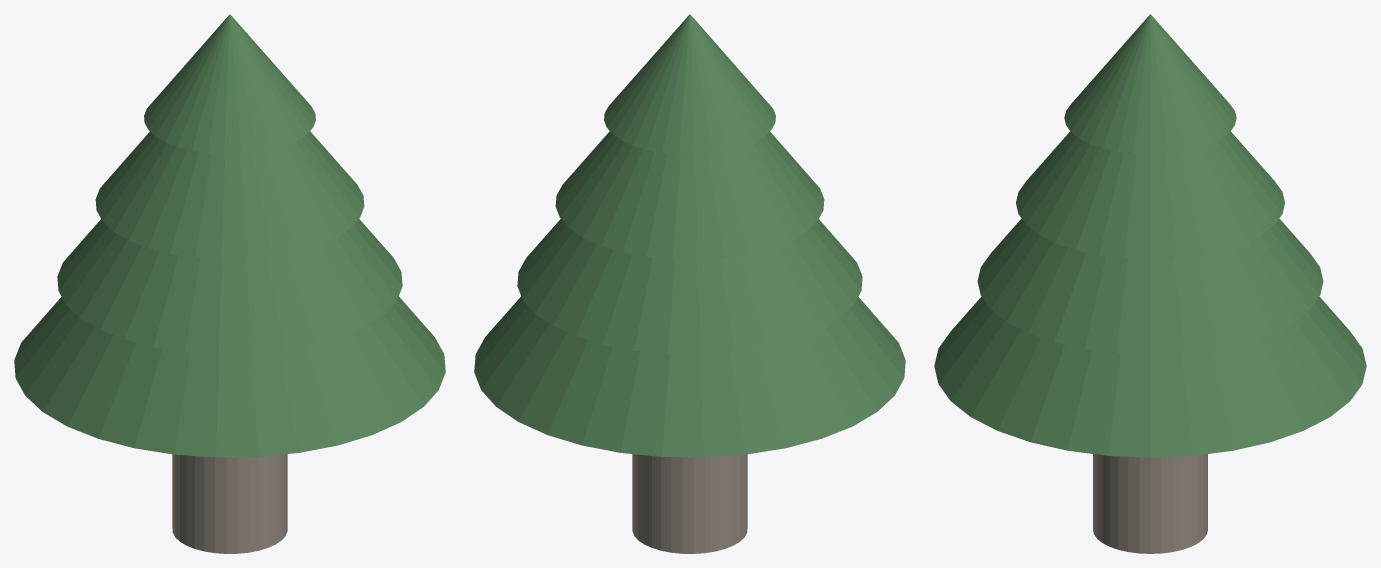
File: tree-sample-2.glb
3 renders of one model, left to right at view 1: azimuth 30°, elevation 25°; view 2: azimuth 150°, elevation 25°; view 3: azimuth 270°, elevation 25°, orthographic.
Parts seen in each view (by area): view 1: Mesh_Mesh_head_geo.001_lambert2SG.001; view 2: Mesh_Mesh_head_geo.001_lambert2SG.001; view 3: Mesh_Mesh_head_geo.001_lambert2SG.001.
Part boxes in pixels (box(x1,y1,x2,y2)): Mesh_Mesh_head_geo.001_lambert2SG.001: box(14, 14, 445, 553); Mesh_Mesh_head_geo.001_lambert2SG.001: box(474, 14, 905, 553); Mesh_Mesh_head_geo.001_lambert2SG.001: box(934, 14, 1366, 553).
Bounding box in the file's own units: 60 × 78.94 × 60.
